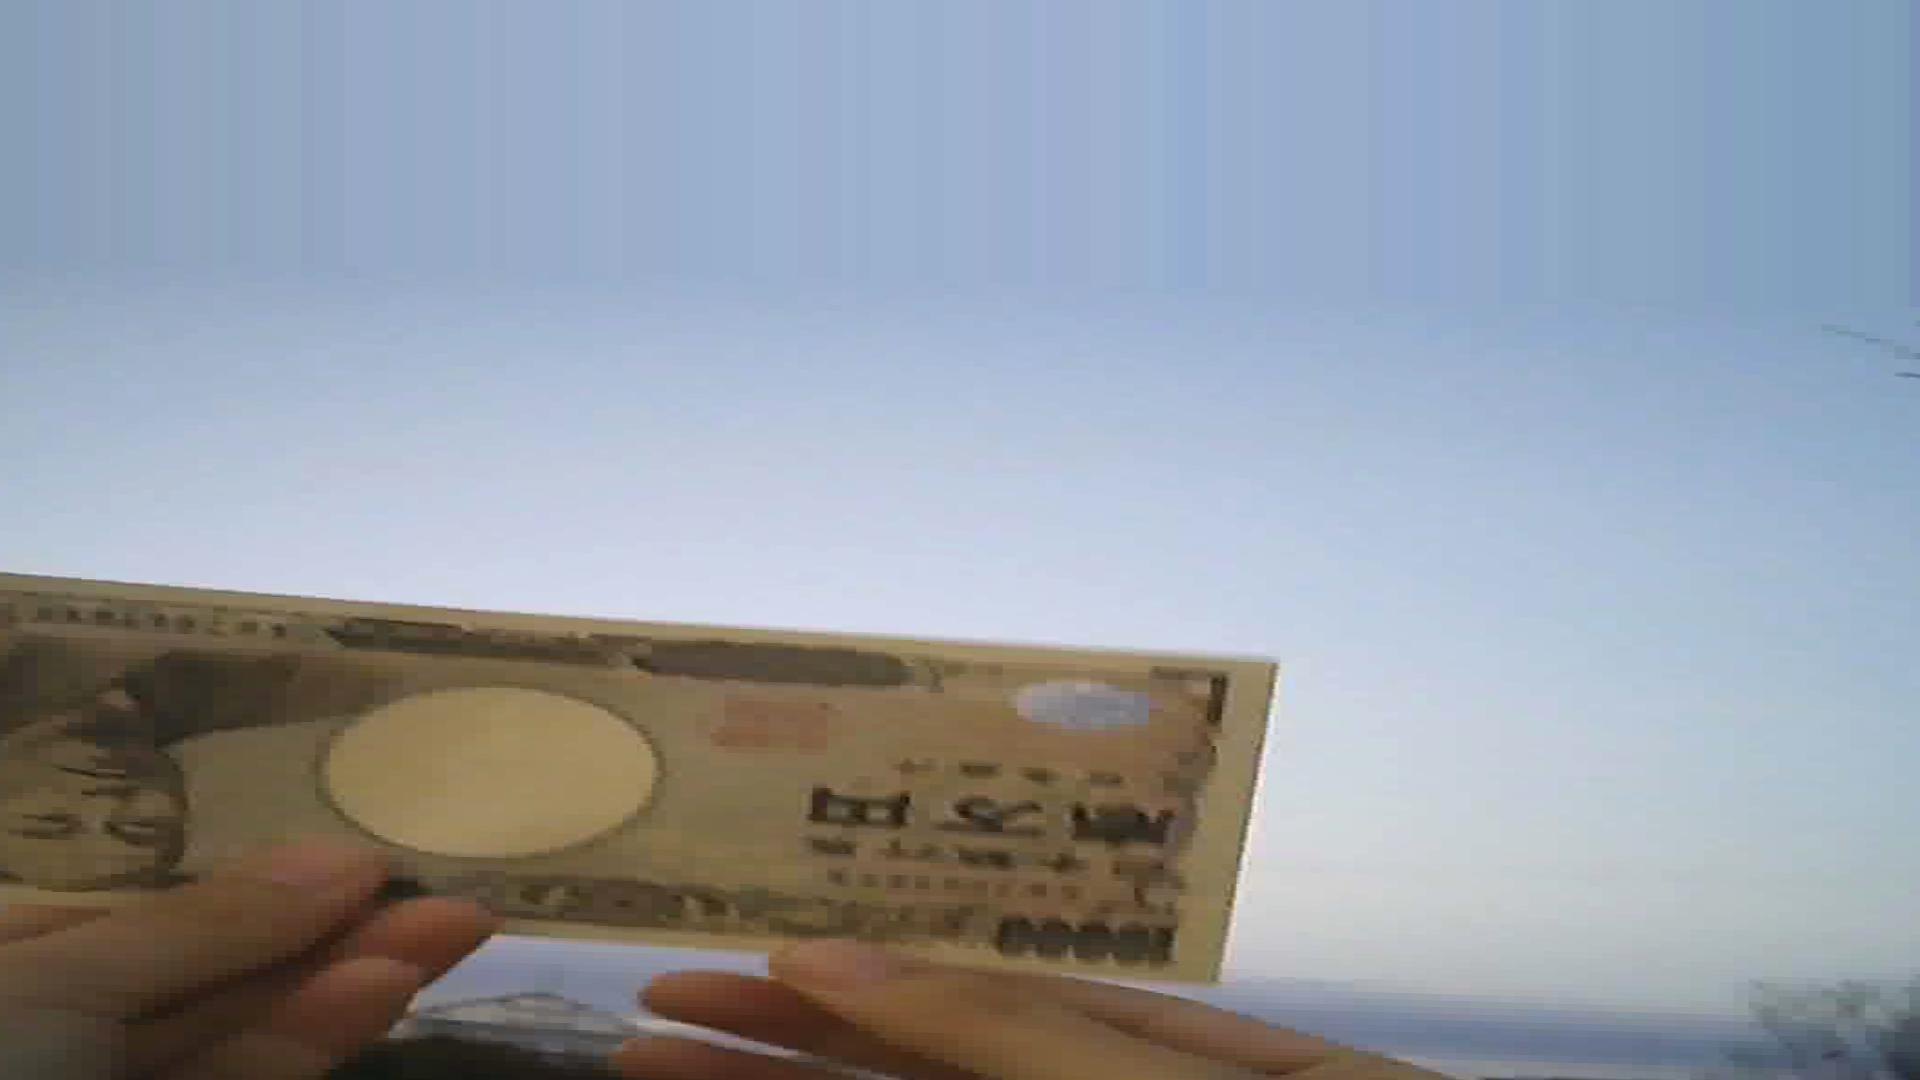10,000 Yen: (26, 541, 1356, 969)
